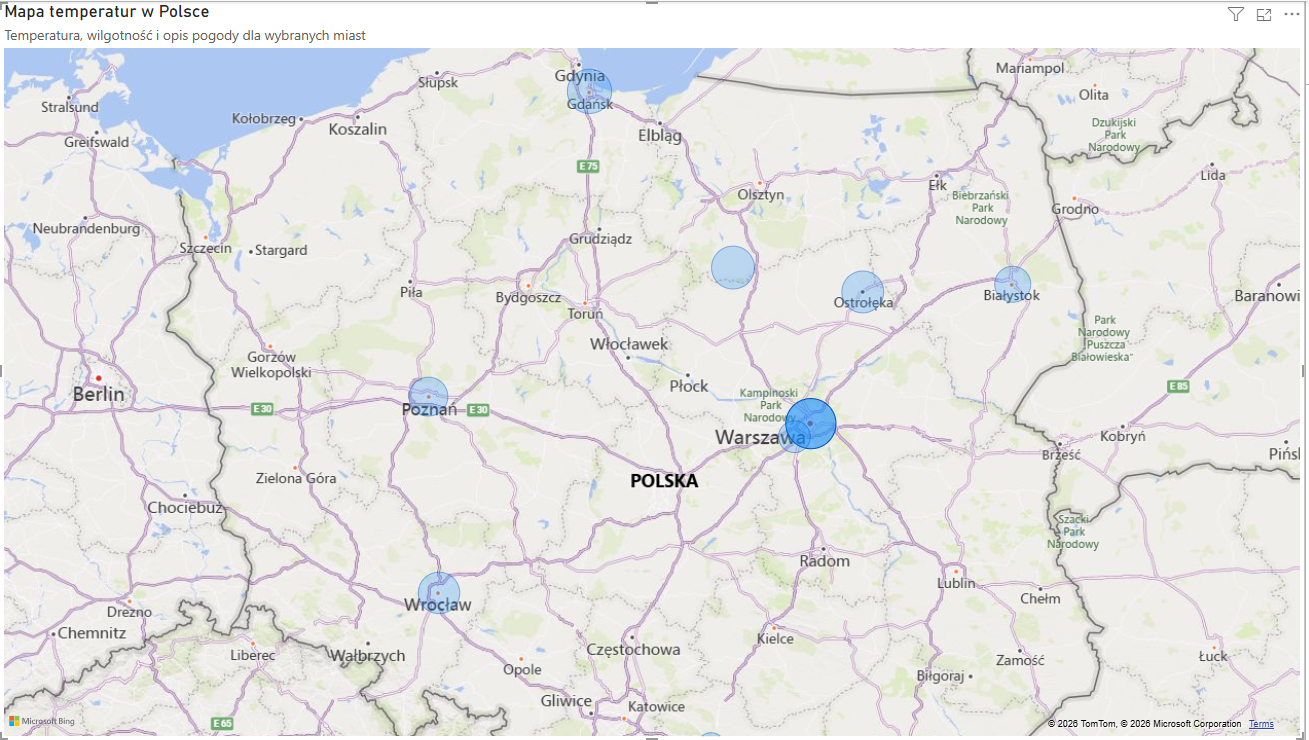

This screenshot's page, from the dashboard's own definition file:
{"tool":"powerbi","page":{"name":"Weather Map","canvas":[1280,720],"ordinal":4},"visuals":[{"type":"map","title":"Mapa temperatur w Polsce","fields":{"Y":["dw dim_location.latitude"],"X":["dw dim_location.longitude"],"Size":["Sum(dw fact_current_weather.humidity)1"]},"box":[9.7,0,1270.3,719.8],"z":0}]}

Visuals, with their boxes on the page's 1280x720 design canvas (x1, y1, x2, y2). These are canvas units, not pixel positions in the 1309x740 screenshot, which may show the page scaled, cropped or inside an application window:
"Mapa temperatur w Polsce" map: detection(10, 0, 1280, 720)
